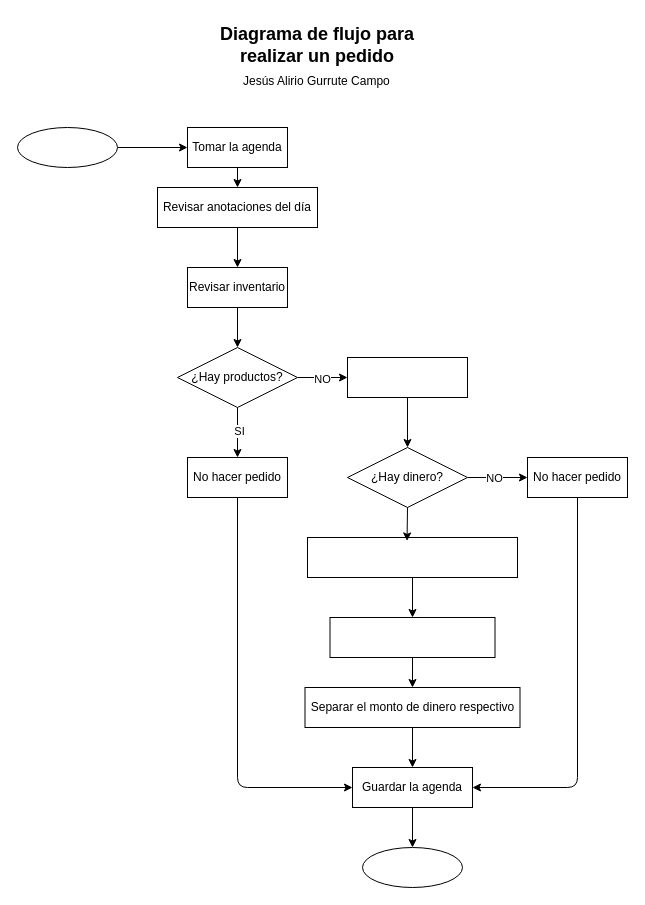
The diagram is 645 pixels wide and 905 high, and some of its shapes have lost their labels. Here are the shapes that lost their labels. From the top down, the box of each, then its label:
(16, 126, 118, 168): Inicio
(346, 356, 468, 398): Hacer lista de productos faltantes
(306, 536, 518, 578): Ajustar cada pedido al monto de dinero correspondido
(329, 616, 495, 658): Anotar cada lista en la agenda
(362, 846, 462, 888): Fin
